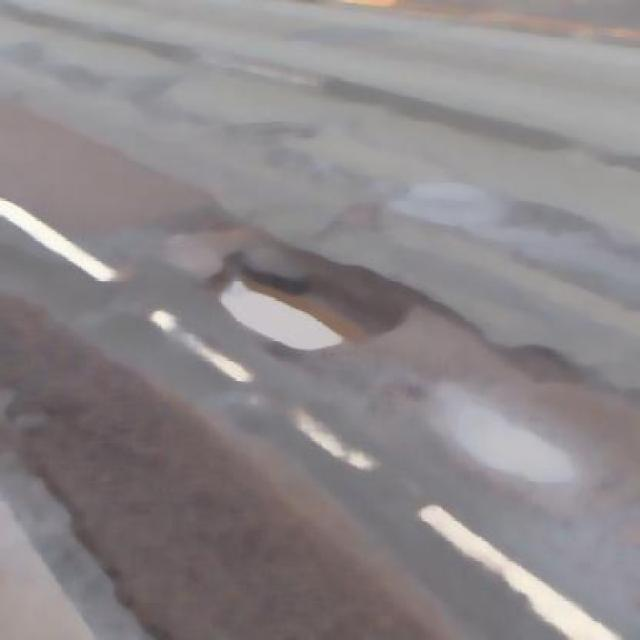Pothole: (208, 247, 384, 359)
